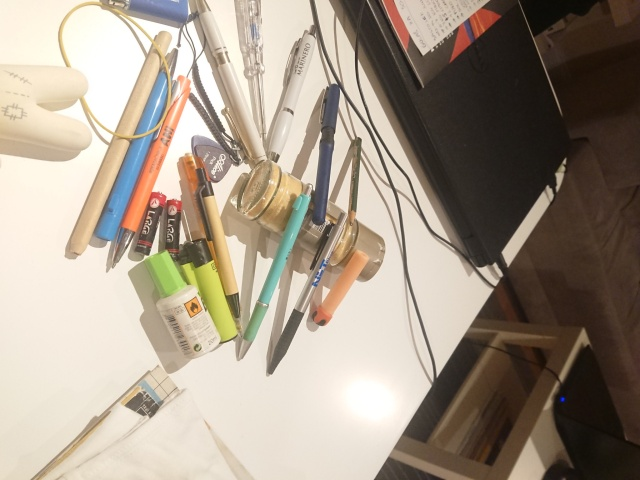Kotanyi Garlic Granules 70g: (235, 158, 387, 285)
